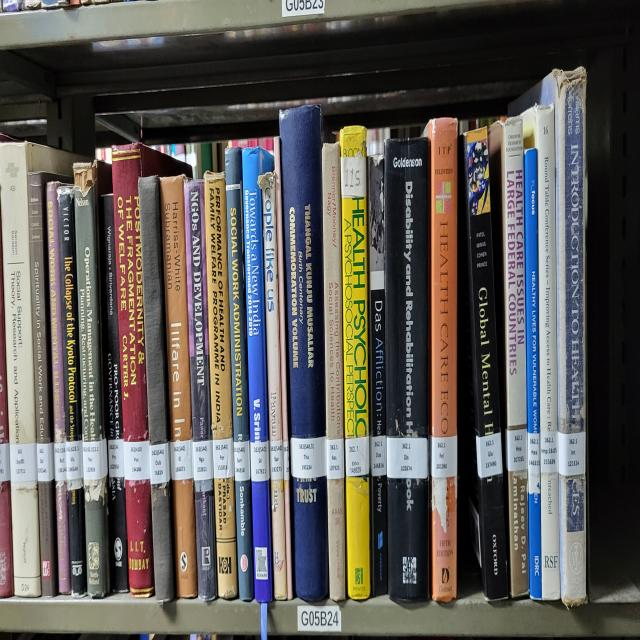Book: (0, 143, 75, 595), (112, 143, 184, 598), (280, 106, 329, 601), (385, 138, 430, 603), (464, 127, 508, 601), (160, 176, 198, 598), (425, 119, 458, 601), (74, 162, 110, 598), (242, 149, 274, 609), (204, 173, 238, 598), (184, 179, 218, 601), (340, 127, 370, 601), (259, 170, 291, 598), (28, 170, 59, 595), (225, 149, 254, 601), (100, 195, 129, 593), (58, 187, 86, 595), (322, 143, 345, 601), (274, 138, 294, 601), (368, 154, 388, 595), (139, 176, 170, 444), (46, 181, 65, 444)
Label: (386, 436, 428, 479), (291, 436, 326, 479), (558, 430, 586, 476), (476, 433, 502, 479), (431, 436, 458, 479), (10, 441, 38, 482), (82, 438, 108, 482), (124, 441, 150, 482), (345, 436, 370, 476), (506, 427, 528, 471), (150, 441, 171, 484), (170, 441, 192, 482), (192, 441, 214, 482), (212, 438, 234, 479), (250, 441, 270, 482), (540, 430, 559, 473), (65, 441, 84, 482), (36, 441, 54, 482), (326, 438, 344, 479), (108, 438, 124, 479), (234, 441, 250, 482), (370, 436, 386, 476), (270, 441, 284, 479), (528, 433, 540, 473), (54, 444, 66, 482), (282, 441, 290, 482)
